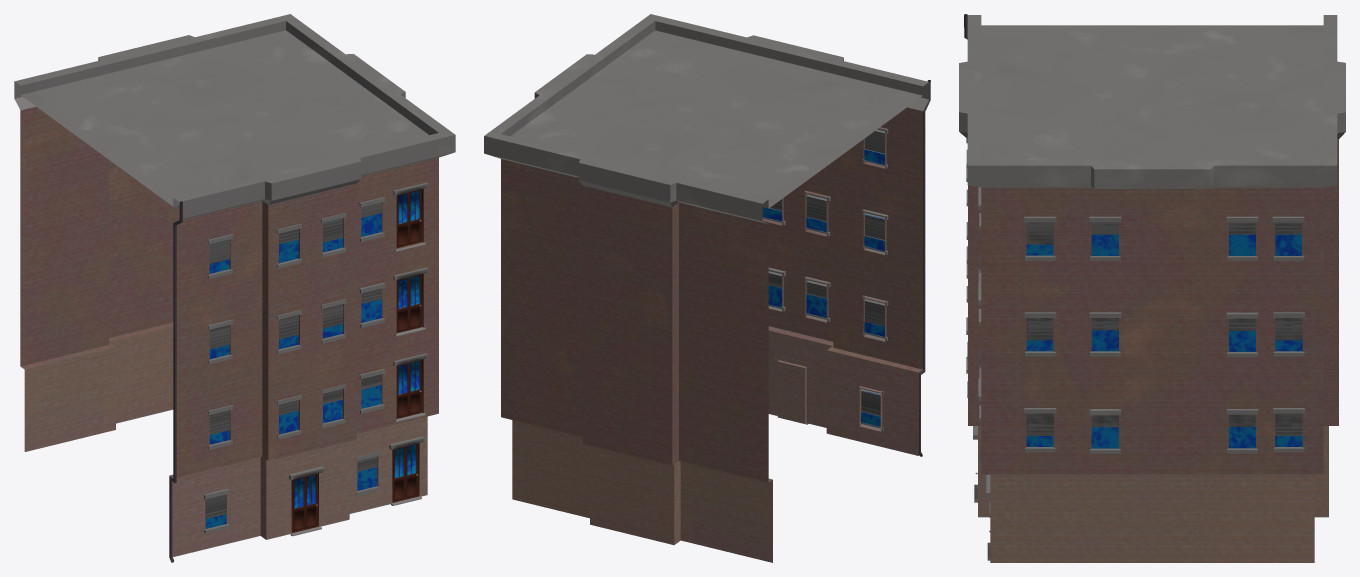
Rendered from end_building.gltf.
3 views of the same model, side by side, from view 1: azimuth 30°, elevation 25°; view 2: azimuth 150°, elevation 25°; view 3: azimuth 270°, elevation 25° (orthographic). The views are drawn at different scales.
Parts seen in each view (by area): view 1: right_connecting_Building.001; view 2: right_connecting_Building.001; view 3: right_connecting_Building.001.
Part boxes in pixels (x1=…): right_connecting_Building.001: x1=14, y1=14, x2=455, y2=562; right_connecting_Building.001: x1=484, y1=14, x2=930, y2=562; right_connecting_Building.001: x1=959, y1=14, x2=1345, y2=562.
Size of the model in its own units: 10.71 by 13.22 by 11.29.
Materials: 1 (1 with a texture image).
